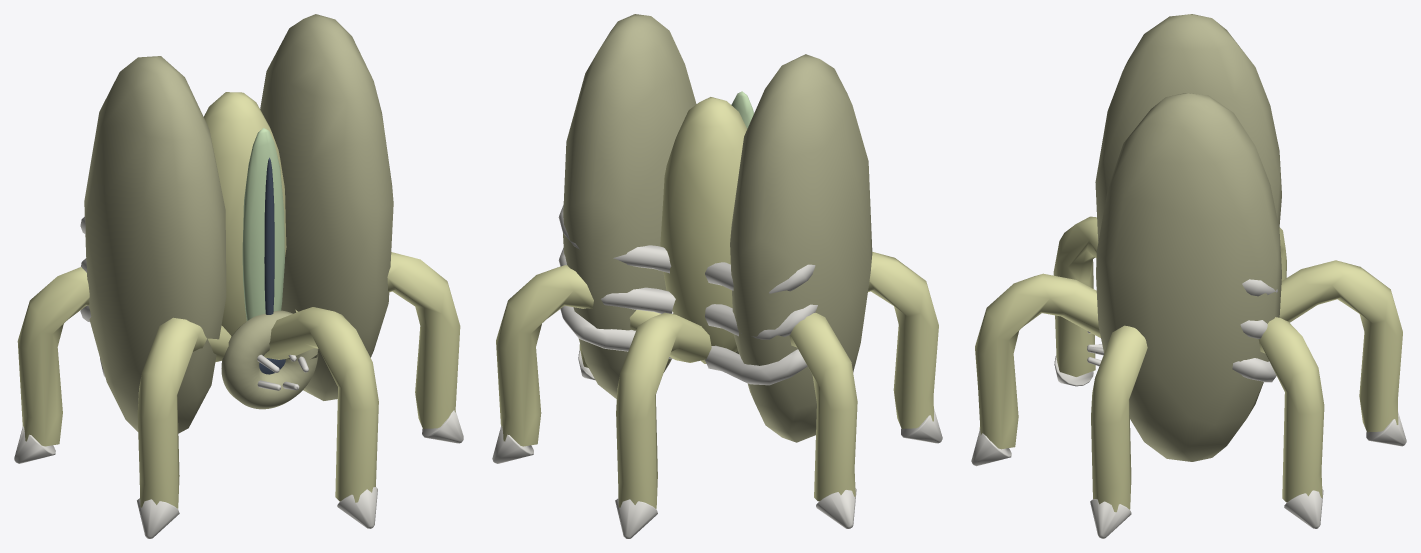
File: bio_window_sac_09_far.glb
3 renders of one model, left to right at view 1: azimuth 30°, elevation 25°; view 2: azimuth 150°, elevation 25°; view 3: azimuth 270°, elevation 25°, orthographic. The views are drawn at different scales.
Parts seen in each view (by area): view 1: Separated curved shell, Crooked support.003, Crooked support.002, Crooked support.001, Crooked support.004, Internal receptor sac, Single vertical photoreceptor, Raised oral lip, Long internal pupil, Contact spur.002, Contact spur.003, Contact spur.001 (+2 smaller); view 2: Separated curved shell, Internal receptor sac, Crooked support, Shell window buttress, Crooked support.005, Crooked support.001, Crooked support.002, Contact spur, Contact spur.001, Contact spur.005, Contact spur.002; view 3: Separated curved shell, Crooked support.003, Crooked support, Crooked support.005, Crooked support.004, Crooked support.002, Shell window buttress, Contact spur.005, Contact spur.004, Contact spur.003, Contact spur.
Boxes of the visible parts, x1,y1,x2,y2 form: Separated curved shell: [84, 14, 393, 433]; Crooked support.003: [264, 307, 378, 502]; Crooked support.002: [137, 317, 231, 508]; Crooked support.001: [17, 267, 89, 446]; Crooked support.004: [295, 252, 460, 428]; Internal receptor sac: [204, 92, 286, 336]; Single vertical photoreceptor: [242, 128, 284, 320]; Raised oral lip: [221, 310, 318, 409]; Long internal pupil: [264, 157, 274, 314]; Contact spur.002: [137, 498, 179, 538]; Contact spur.003: [337, 487, 377, 528]; Contact spur.001: [14, 426, 55, 463]; Separated curved shell: [563, 14, 872, 442]; Internal receptor sac: [660, 97, 747, 363]; Crooked support: [616, 312, 711, 508]; Shell window buttress: [558, 205, 817, 385]; Crooked support.005: [496, 265, 660, 446]; Crooked support.001: [789, 312, 857, 501]; Crooked support.002: [868, 252, 938, 428]; Contact spur: [615, 498, 657, 538]; Contact spur.001: [816, 488, 856, 528]; Contact spur.005: [492, 425, 533, 463]; Contact spur.002: [901, 409, 942, 443]; Separated curved shell: [1095, 14, 1281, 461]; Crooked support.003: [975, 273, 1100, 449]; Crooked support: [1279, 260, 1402, 432]; Crooked support.005: [1258, 317, 1324, 502]; Crooked support.004: [1091, 325, 1147, 512]; Crooked support.002: [1053, 216, 1098, 376]; Shell window buttress: [1232, 279, 1277, 382]; Contact spur.005: [1284, 489, 1323, 528]; Contact spur.004: [1090, 499, 1131, 538]; Contact spur.003: [971, 429, 1011, 466]; Contact spur: [1366, 412, 1406, 446].
Size of the model in its own units: 1.93 by 2.13 by 2.1.
